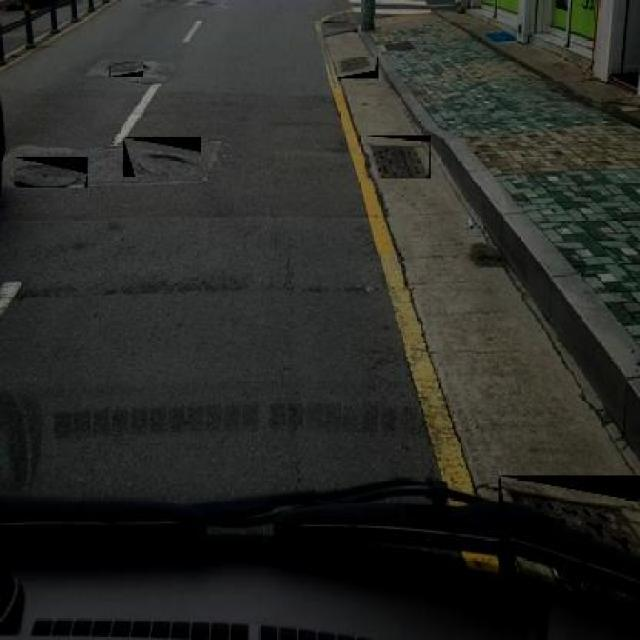Manhole: (498, 476, 640, 602), (123, 137, 200, 177), (364, 136, 430, 179), (14, 156, 88, 189), (336, 56, 378, 78), (109, 61, 143, 77)
Pothole: (187, 0, 224, 10)
